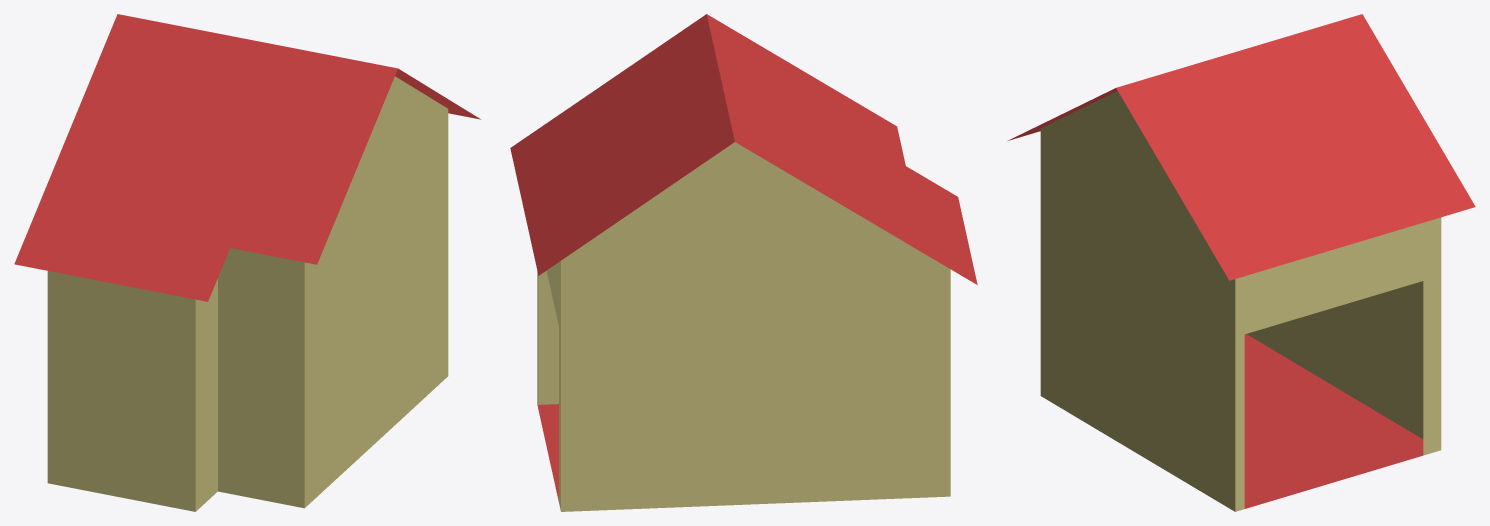
3 renders of one model, left to right at view 1: azimuth 30°, elevation 25°; view 2: azimuth 150°, elevation 25°; view 3: azimuth 270°, elevation 25°, orthographic. The views are drawn at different scales.
Bounding box in the file's own units: 16.15 × 14.25 × 12.43.
